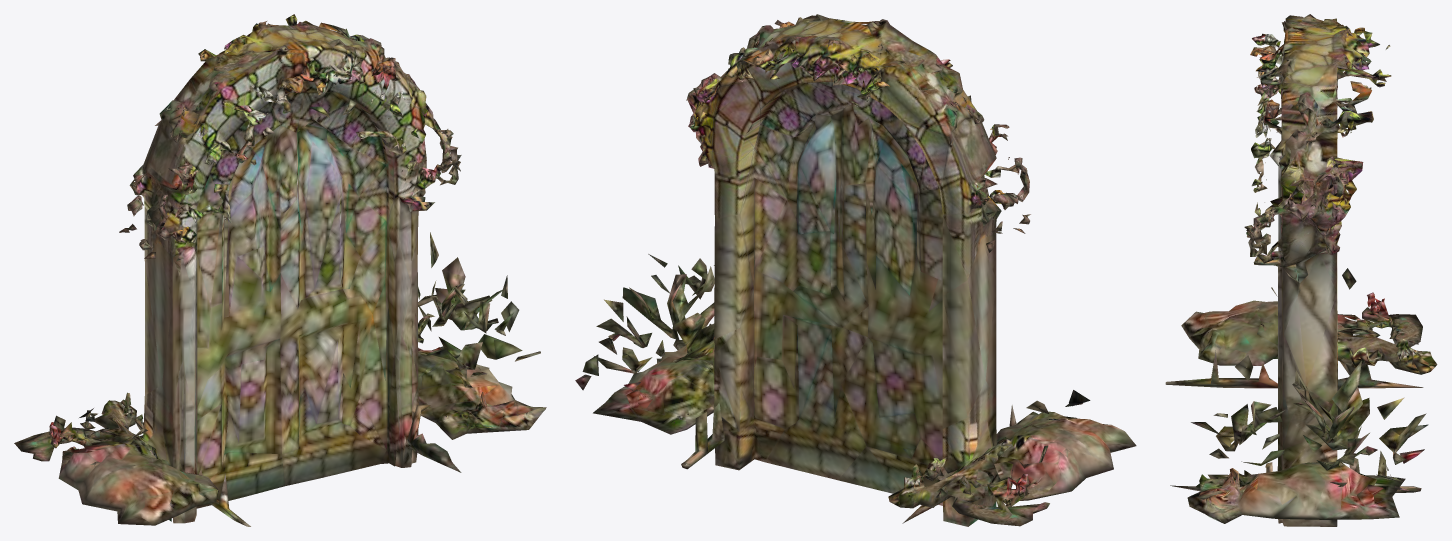
File: _Object_Charmi_2.glb
3 views of the same model, side by side, from view 1: azimuth 30°, elevation 25°; view 2: azimuth 150°, elevation 25°; view 3: azimuth 270°, elevation 25° (orthographic). The views are drawn at different scales.
Visible parts, largest first — view 1: _Object_Charmi_2; view 2: _Object_Charmi_2; view 3: _Object_Charmi_2.
Boxes of the visible parts, x1,y1,x2,y2 form: _Object_Charmi_2: (14, 14, 546, 526); _Object_Charmi_2: (575, 14, 1136, 526); _Object_Charmi_2: (1165, 14, 1437, 526).
Bounding box in the file's own units: 1.93 × 1.81 × 1.01.
Materials: 1 (1 with a texture image).
